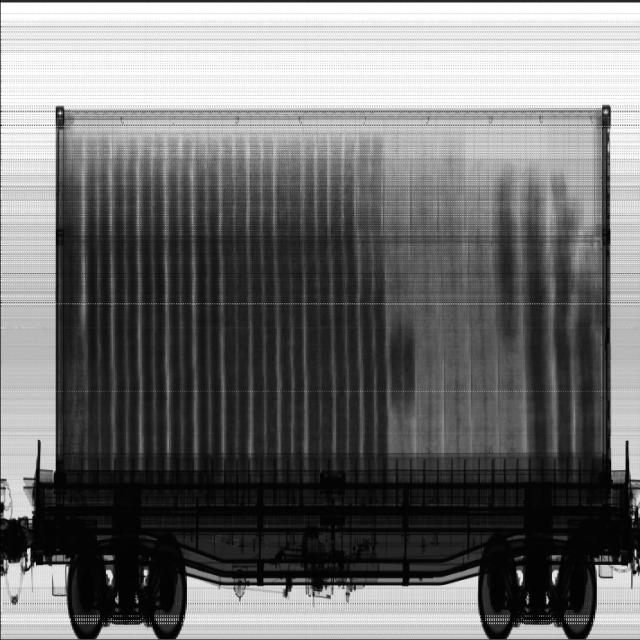clothes: (385, 168, 527, 478)
